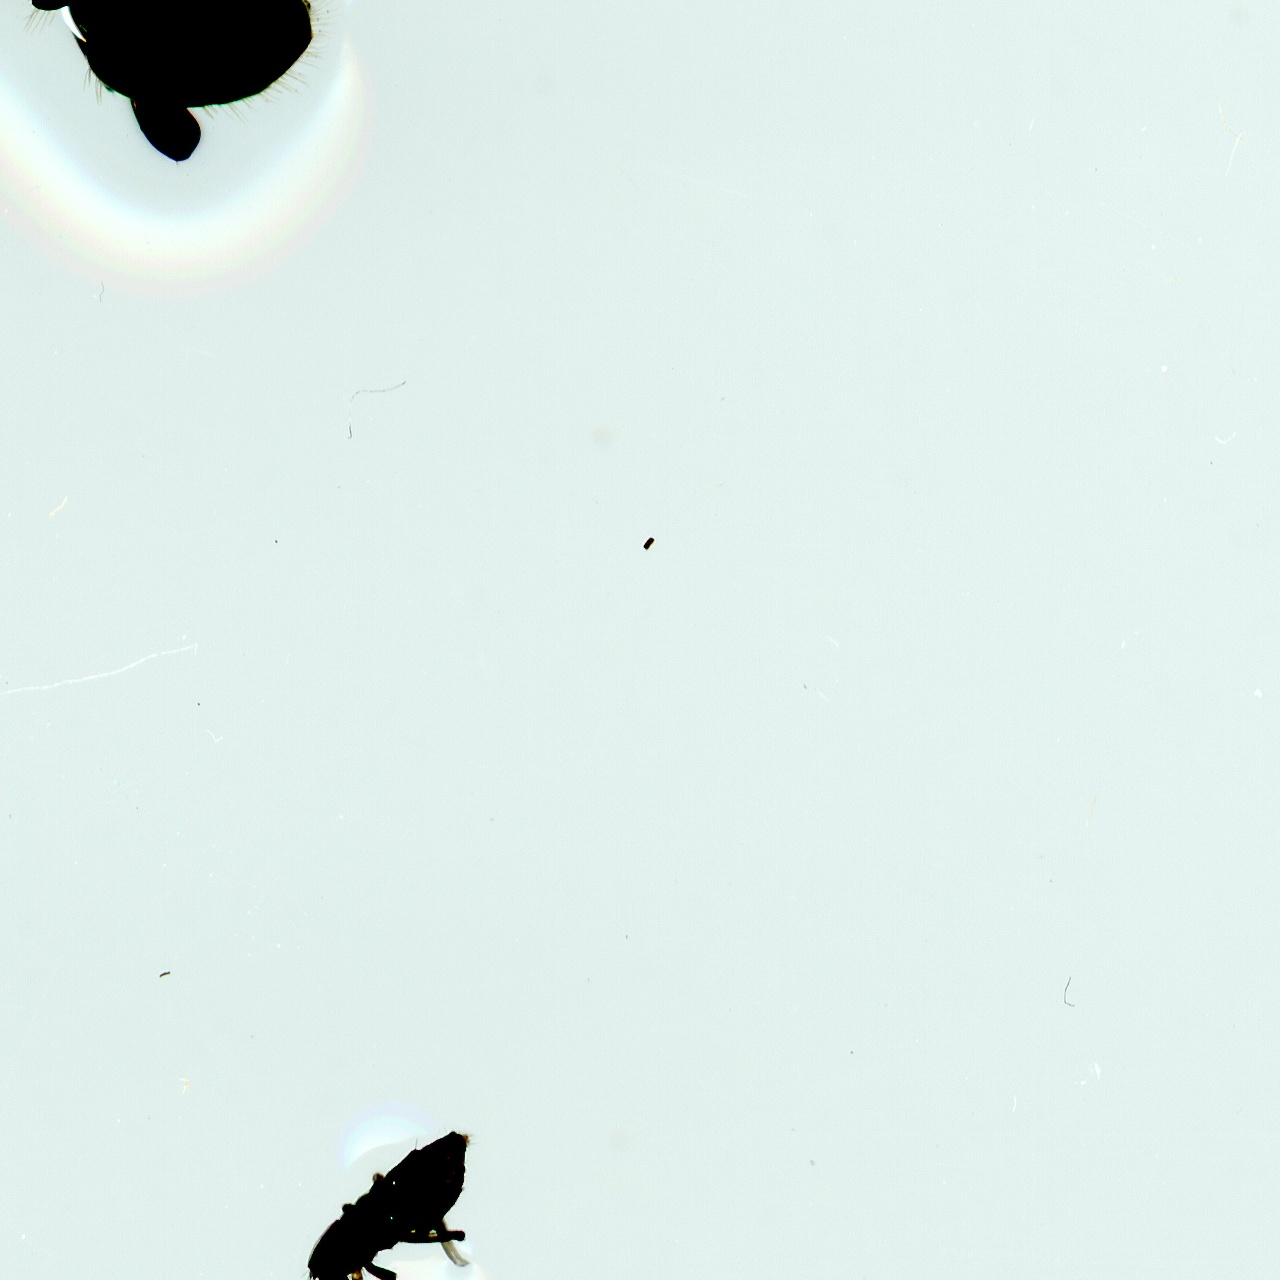arthropod: (0, 0, 398, 281), (200, 1072, 538, 1280)
